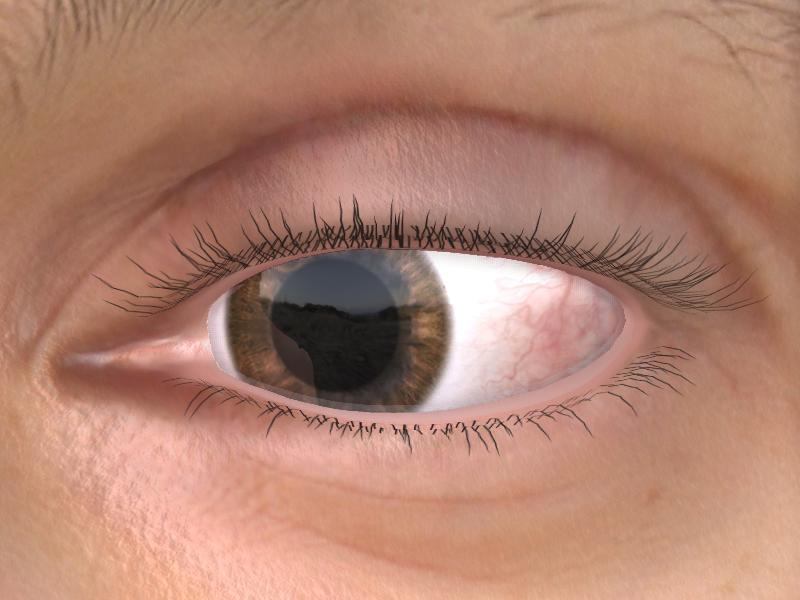eye: (227, 249, 443, 412)
